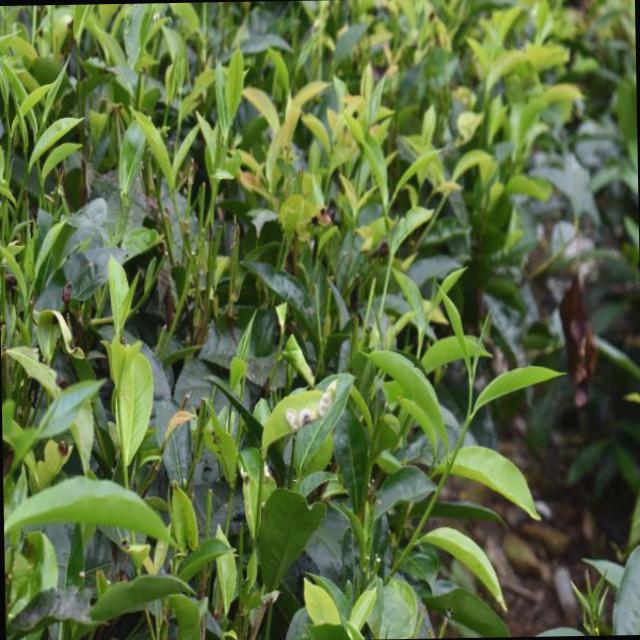Stem: (467, 416, 471, 421), (172, 198, 175, 204), (389, 257, 392, 261)
